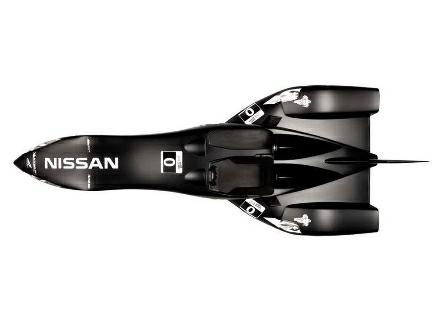日产-DeltaWing: (4, 80, 430, 247)
